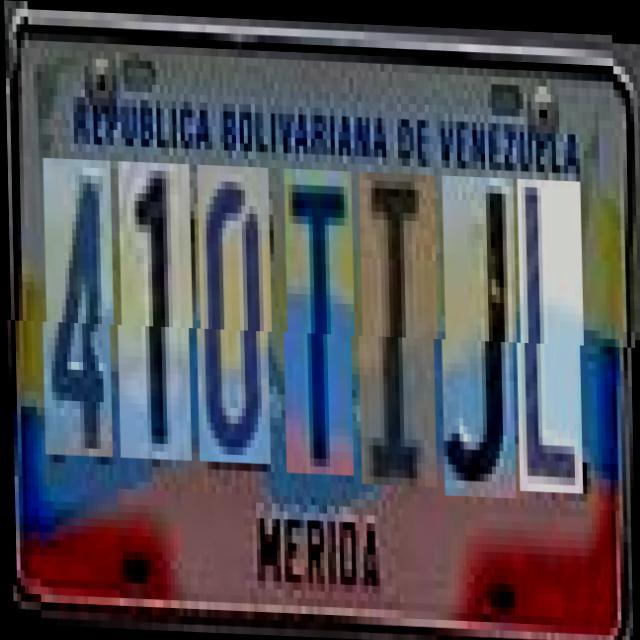0: (196, 163, 272, 462)
1: (118, 160, 194, 459)
4: (42, 158, 114, 456)
I: (358, 168, 438, 483)
J: (441, 172, 518, 494)
L: (516, 174, 584, 488)
T: (284, 166, 356, 473)
